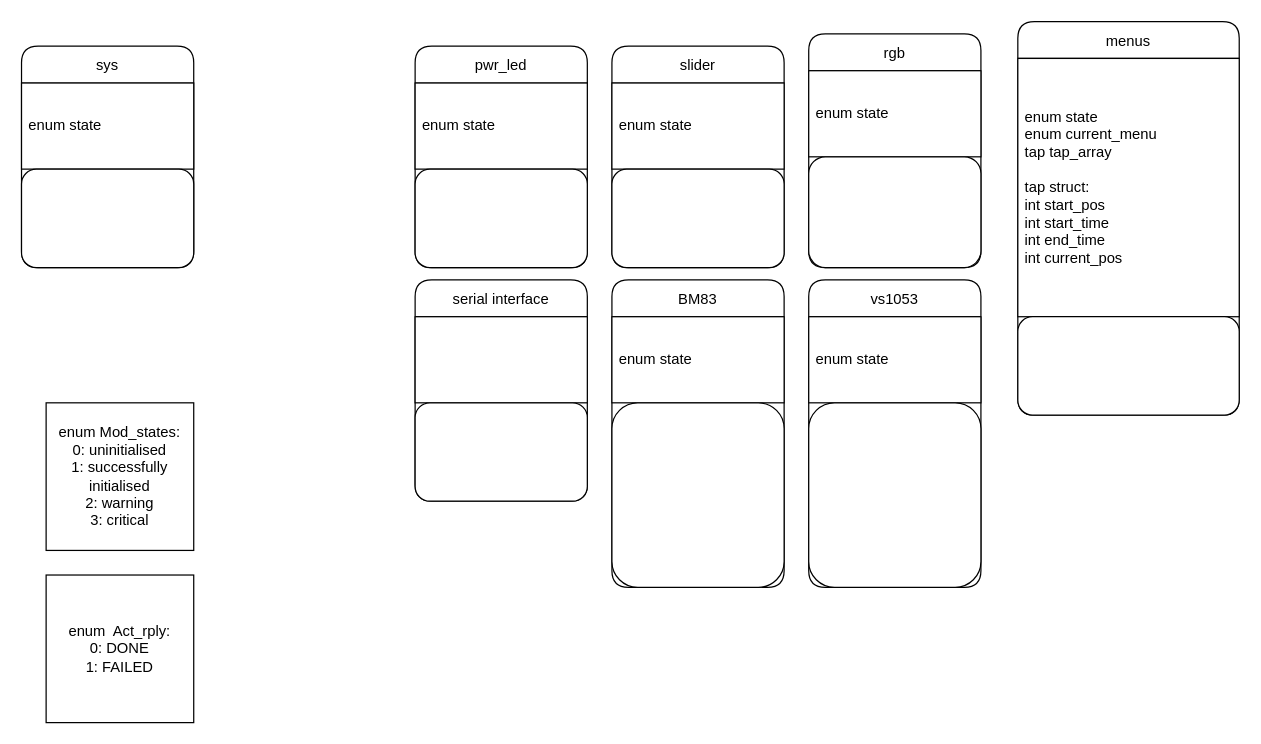
The diagram is 1261 pixels wide and 744 high, and some of its shapes have lost their labels. The centre of each missing label's shape, as x and y in pixels:
"enum state enum connection" belongs at (500,359).
"init tick" belongs at (1128,365).
"init tick enable set pattern get_pattern" belongs at (894,212).
"init tick get_bat_level get_chrg_state set_dbg_led" belongs at (107,218).
"init tick get_touch_points" belongs at (697,218).
"init tick pause play prev next set_vol" belongs at (697,494).
"init tick pause play prev next set_vol start_song" belongs at (894,494).
"init tick send message" belongs at (500,451).
"init tick set_brightness get_brightness" belongs at (500,218).
